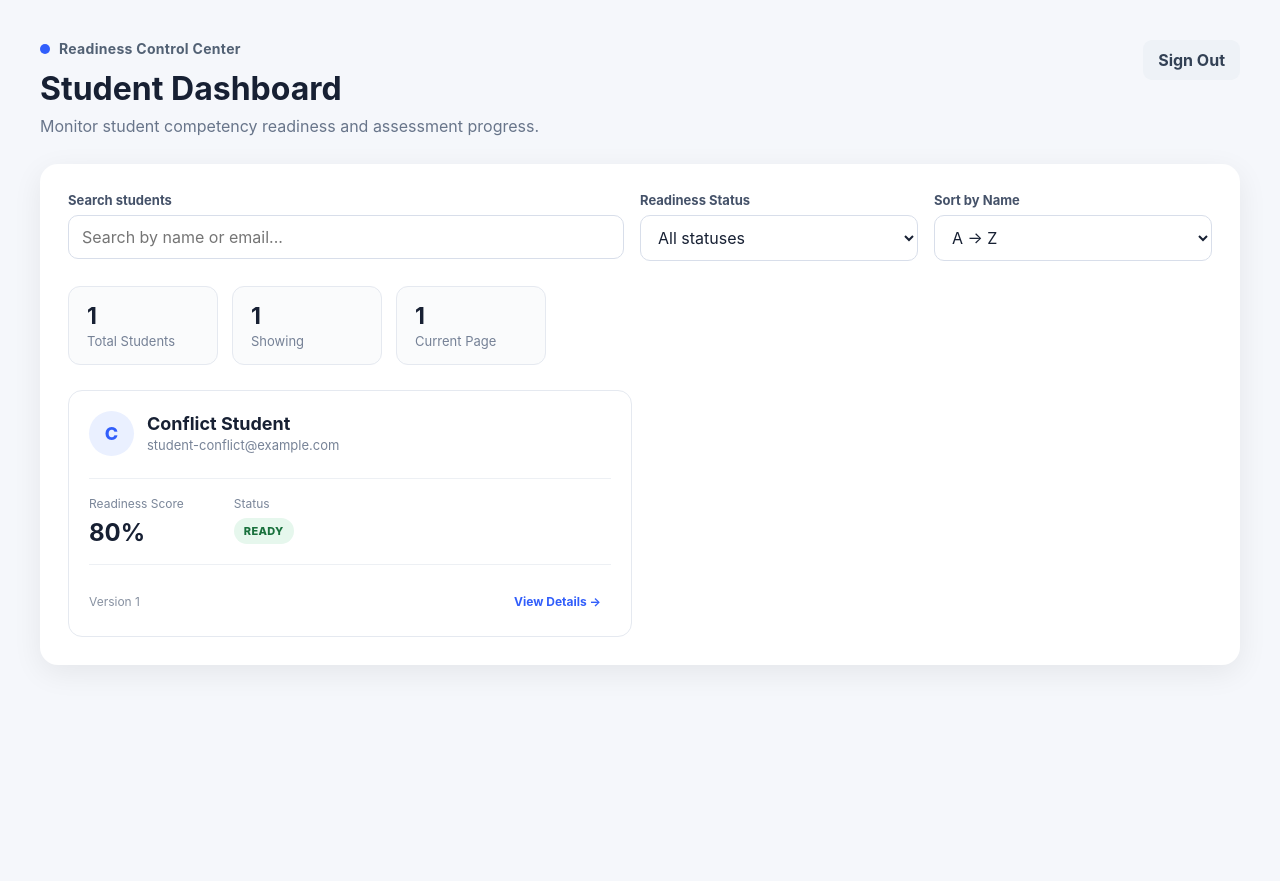
Scenario: Student Readiness Control Center frontend › shows the VERSION_CONFLICT message when an attempt conflicts
(page scrolled)
Expected: the heading "Conflict Student" is shown, [147,413,290,434]
Click the button "View Details →".
click(558, 601)  # box [504,587,611,616]
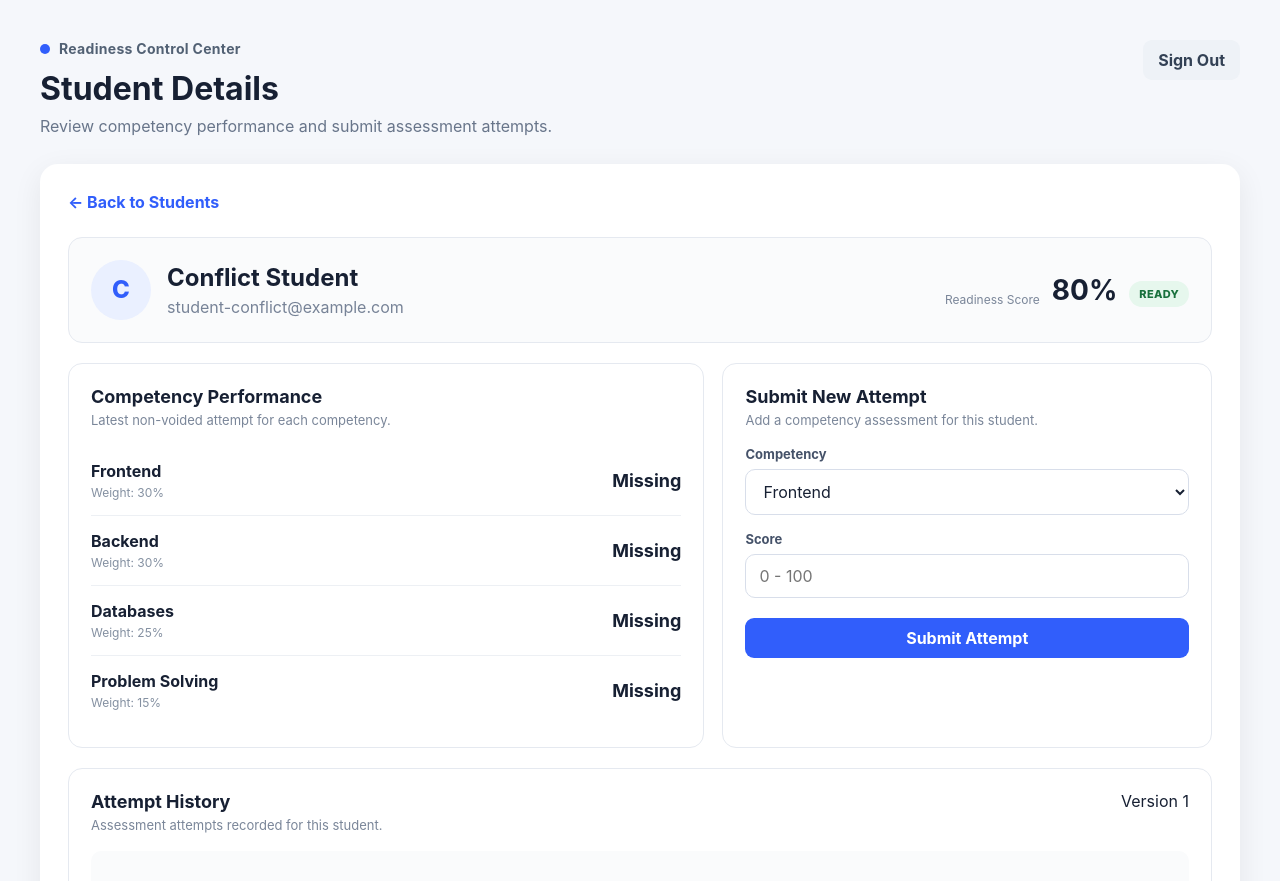
Type "90" into the number field labelled "Score".
click(967, 576); type("90")  # box [745,554,1189,598]
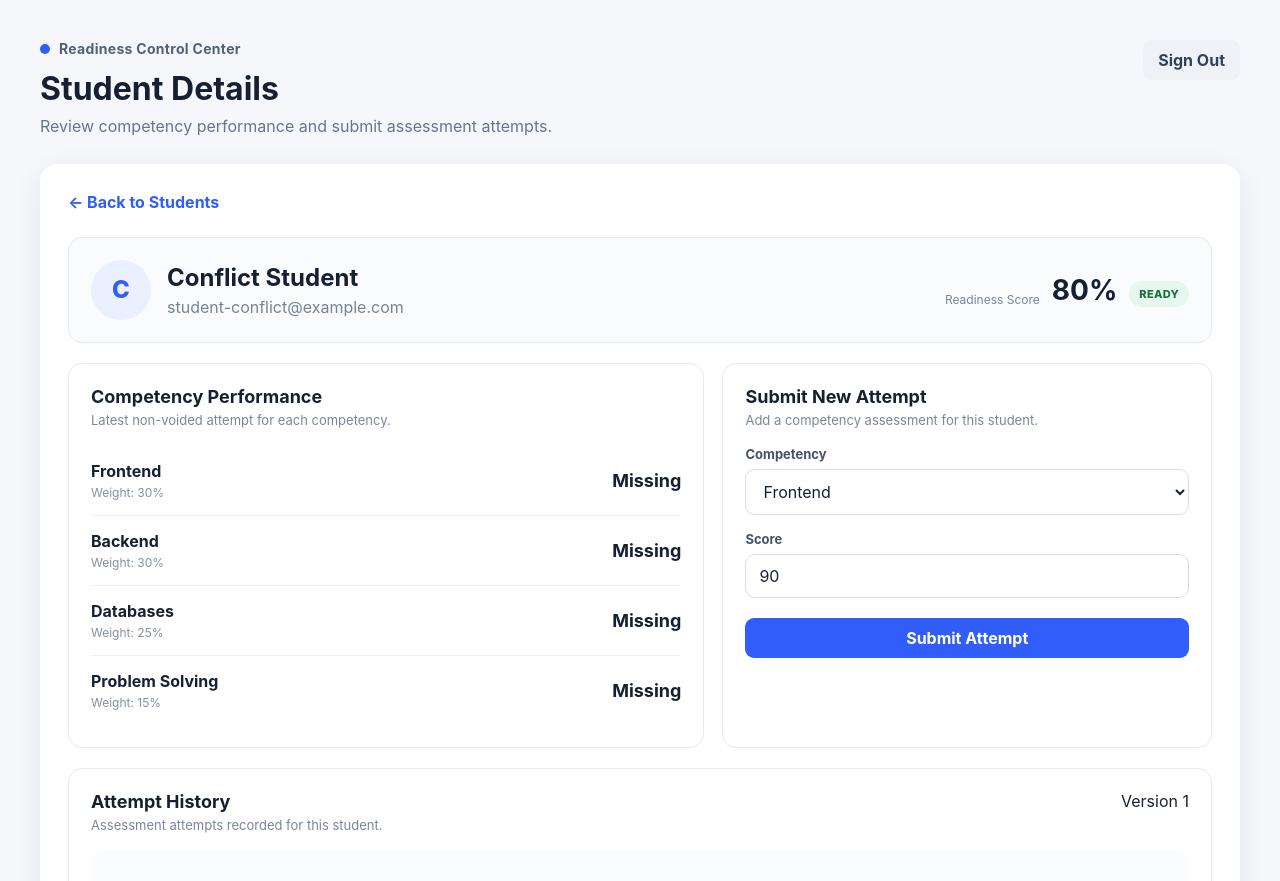
Click the button "Submit Attempt".
click(967, 638)  # box [745,618,1189,658]
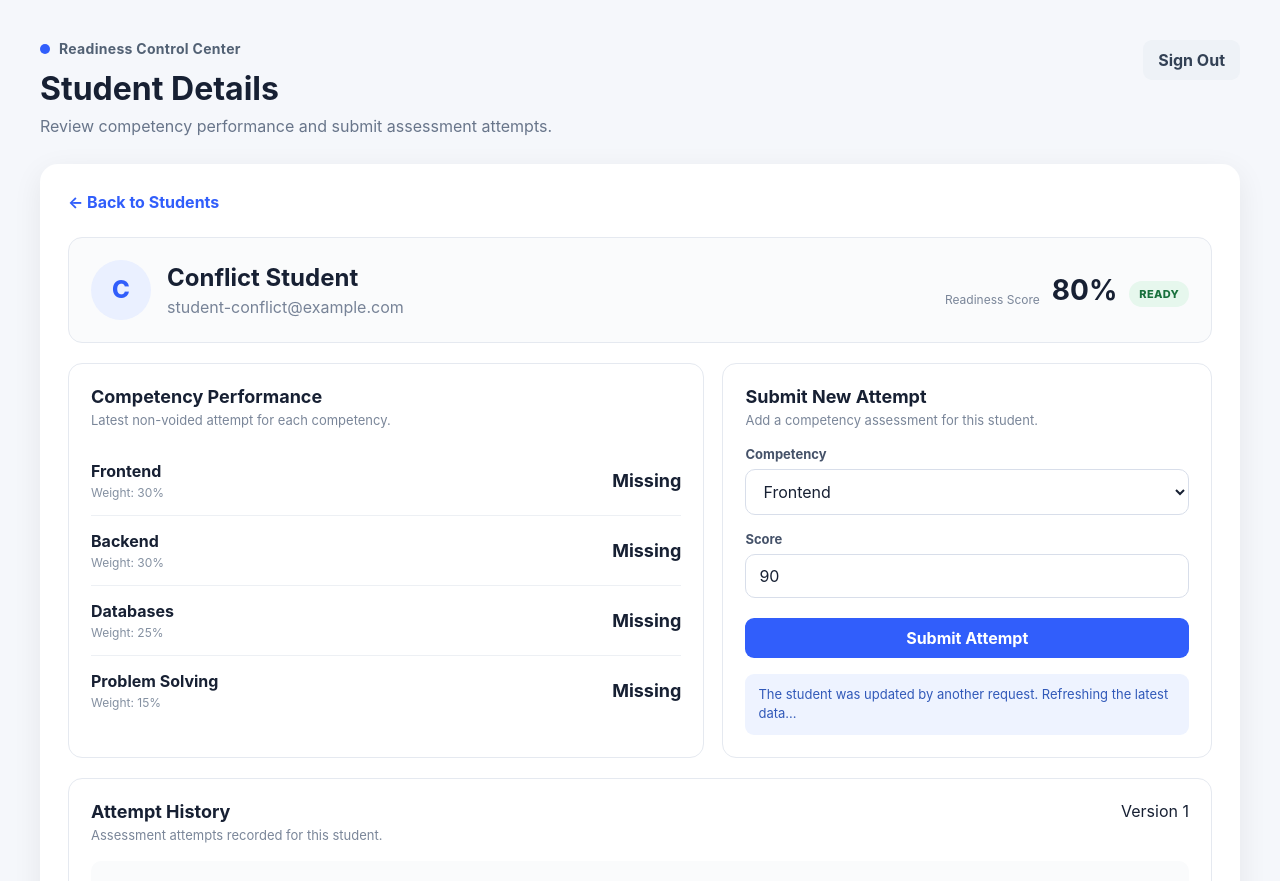
Result: the text "student was updated by another request" is shown at [758,686,1168,721]
